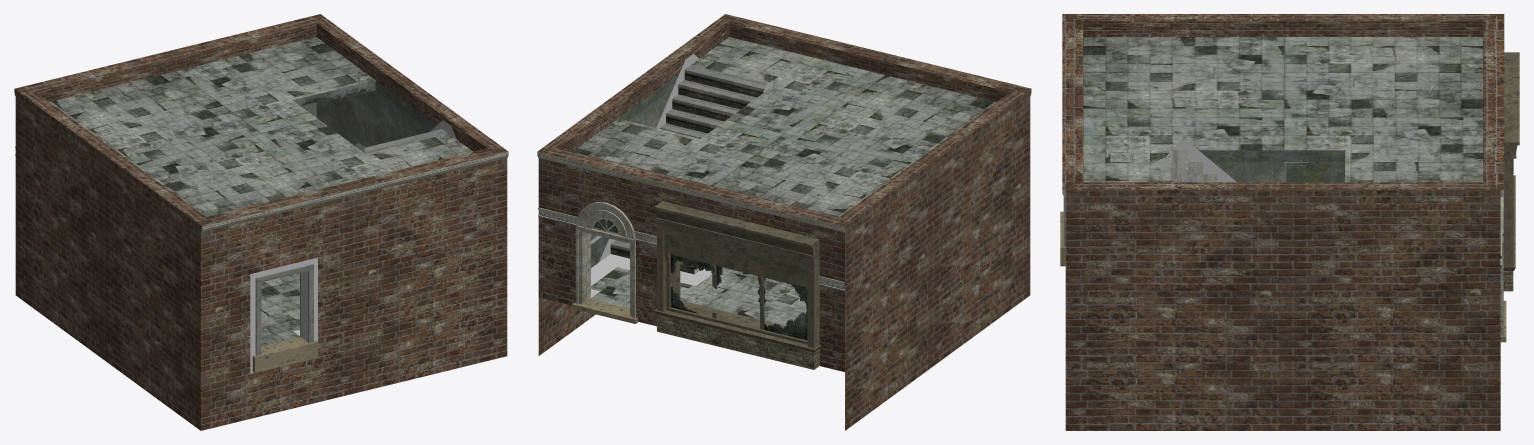
The model's file is OTBuildingDestroyed01.FBX.
3 renders of one model, left to right at view 1: azimuth 30°, elevation 25°; view 2: azimuth 150°, elevation 25°; view 3: azimuth 270°, elevation 25°, orthographic. The views are drawn at different scales.
Visible parts, largest first — view 1: OTBldgDestroy01:0, OTBldgDestroy01:4, OTBldgDestroy01:1, OTBldgDestroy01:5; view 2: OTBldgDestroy01:0, OTBldgDestroy01:4, OTBldgDestroy01:1, OTBldgDestroy01:5, OTBldgDestroy01:2; view 3: OTBldgDestroy01:0, OTBldgDestroy01:4, OTBldgDestroy01:1, OTBldgDestroy01:5.
Part boxes in pixels (box(x1,y1,x2,y2)): OTBldgDestroy01:0: box(14, 14, 508, 430); OTBldgDestroy01:4: box(49, 37, 472, 355); OTBldgDestroy01:1: box(14, 89, 508, 372); OTBldgDestroy01:5: box(250, 120, 456, 373); OTBldgDestroy01:0: box(537, 14, 1031, 430); OTBldgDestroy01:4: box(573, 37, 996, 325); OTBldgDestroy01:1: box(537, 89, 1031, 352); OTBldgDestroy01:5: box(591, 53, 772, 297); OTBldgDestroy01:2: box(671, 255, 807, 340); OTBldgDestroy01:0: box(1062, 14, 1513, 430); OTBldgDestroy01:4: box(1063, 37, 1483, 246); OTBldgDestroy01:1: box(1060, 52, 1519, 342); OTBldgDestroy01:5: box(1176, 143, 1308, 182).
Size of the model in its own units: 7.68 by 4.93 by 8.49.
